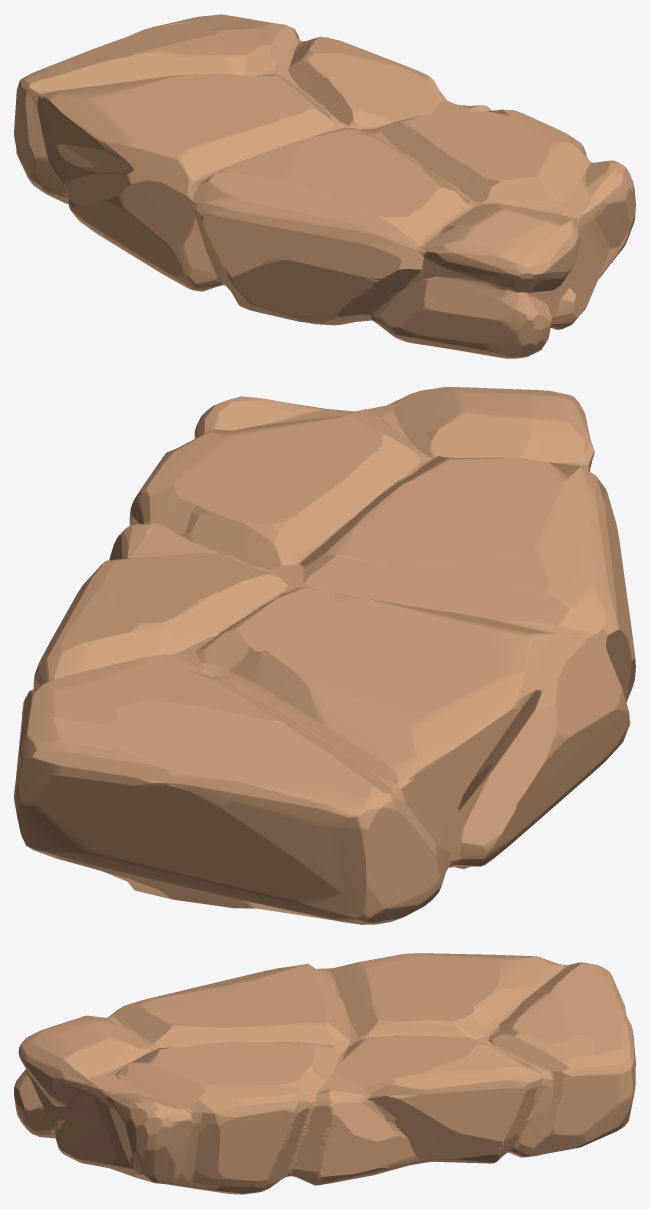
3 views of the same model, one above another, from view 1: azimuth 30°, elevation 25°; view 2: azimuth 150°, elevation 25°; view 3: azimuth 270°, elevation 25° (orthographic). The views are drawn at different scales.
Parts seen in each view (by area): view 1: Mesh_39_LOD0; view 2: Mesh_39_LOD0; view 3: Mesh_39_LOD0.
Boxes of the visible parts, left/top/right/bottom form: Mesh_39_LOD0: left=14, top=14, right=635, bottom=358; Mesh_39_LOD0: left=14, top=387, right=635, bottom=924; Mesh_39_LOD0: left=14, top=953, right=635, bottom=1194.
Size of what is drawn, in the model's own units: 1798 by 555 by 2825.
